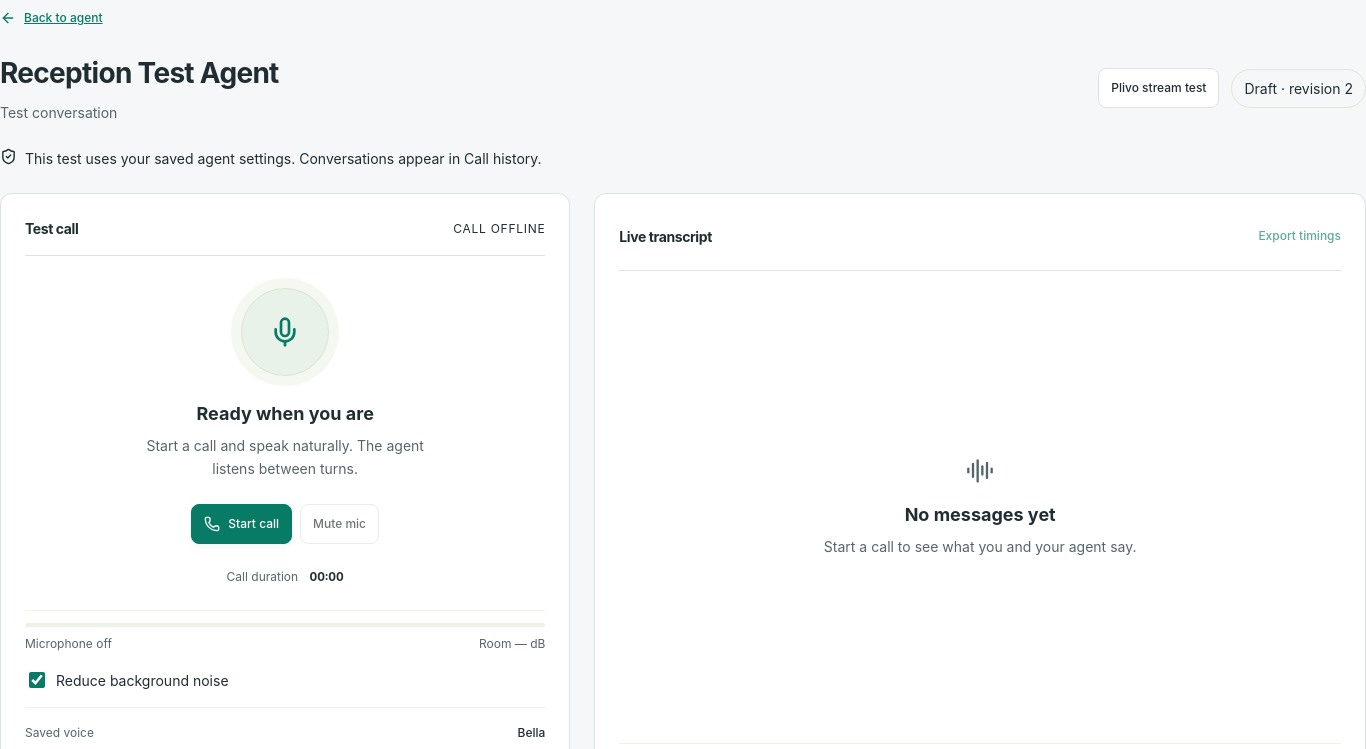
Test case: transcribing and thinking reflect pipeline events and mute clears preview
Click the button "Start call".
click(242, 524)  # box [191,504,292,544]
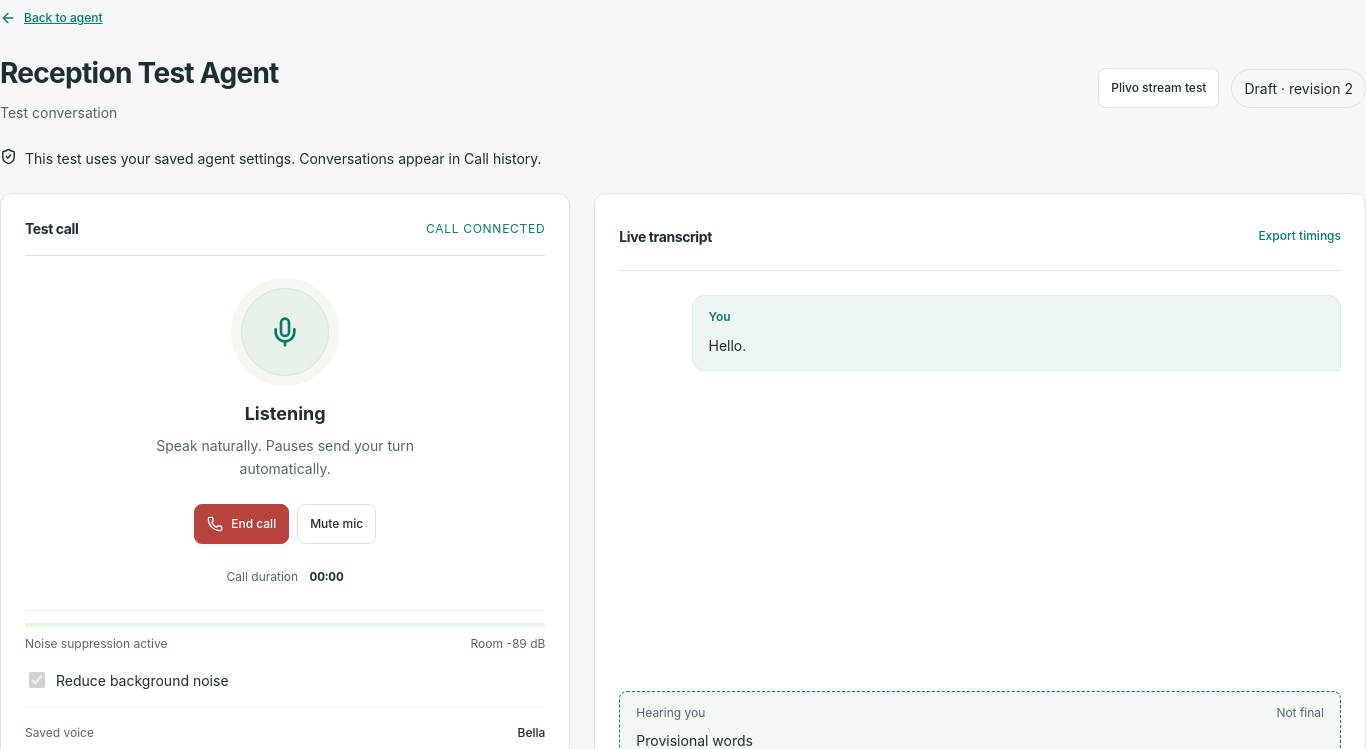
Now the heading "Listening" is shown, box [245,403,326,424]
Click the button "Mute mic".
click(337, 524)  # box [297,504,376,544]
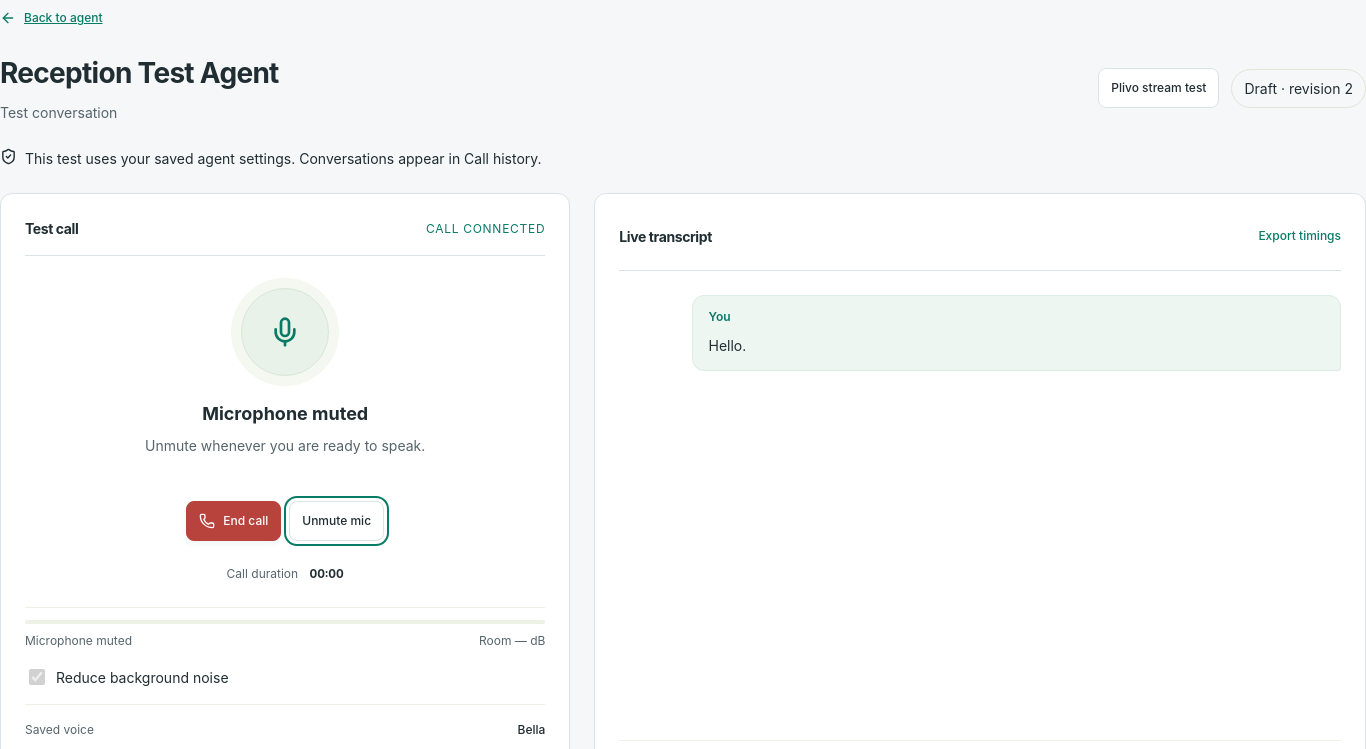
Now the heading "Microphone muted" is shown, box [202,403,368,424]
